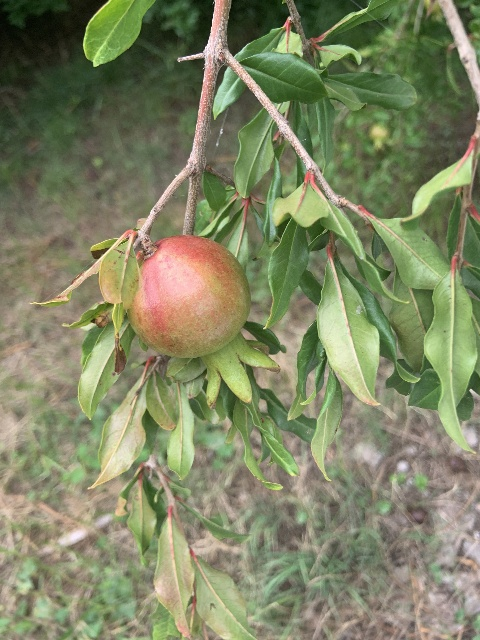early-fruit: (126, 233, 281, 408)
